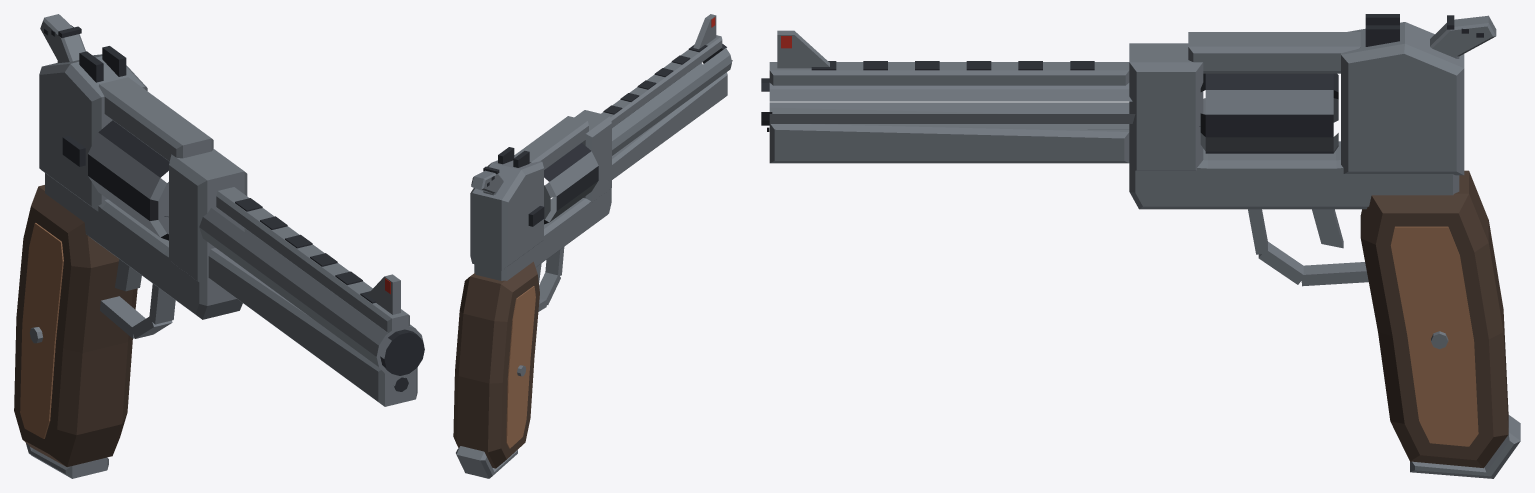
File: revolver.glb
3 renders of one model, left to right at view 1: azimuth 30°, elevation 25°; view 2: azimuth 150°, elevation 25°; view 3: azimuth 270°, elevation 25°, orthographic. The views are drawn at different scales.
Parts seen in each view (by area): view 1: revolver_mesh, CYLINDER, HAMMER, TRIGGER; view 2: revolver_mesh, CYLINDER, HAMMER; view 3: revolver_mesh, CYLINDER, HAMMER, TRIGGER.
Boxes of the visible parts, left/top/right/bottom form: revolver_mesh: left=14, top=46, right=424, bottom=478; CYLINDER: left=88, top=120, right=169, bottom=240; HAMMER: left=40, top=14, right=85, bottom=63; TRIGGER: left=115, top=259, right=141, bottom=291; revolver_mesh: left=453, top=14, right=732, bottom=478; CYLINDER: left=544, top=143, right=598, bottom=224; HAMMER: left=471, top=166, right=503, bottom=195; revolver_mesh: left=761, top=14, right=1520, bottom=478; CYLINDER: left=1199, top=73, right=1338, bottom=153; HAMMER: left=1430, top=15, right=1496, bottom=58; TRIGGER: left=1312, top=209, right=1343, bottom=248.
Size of the model in its own units: 0.0402 by 0.202 by 0.3085.
Materials: 1 (1 with a texture image).
